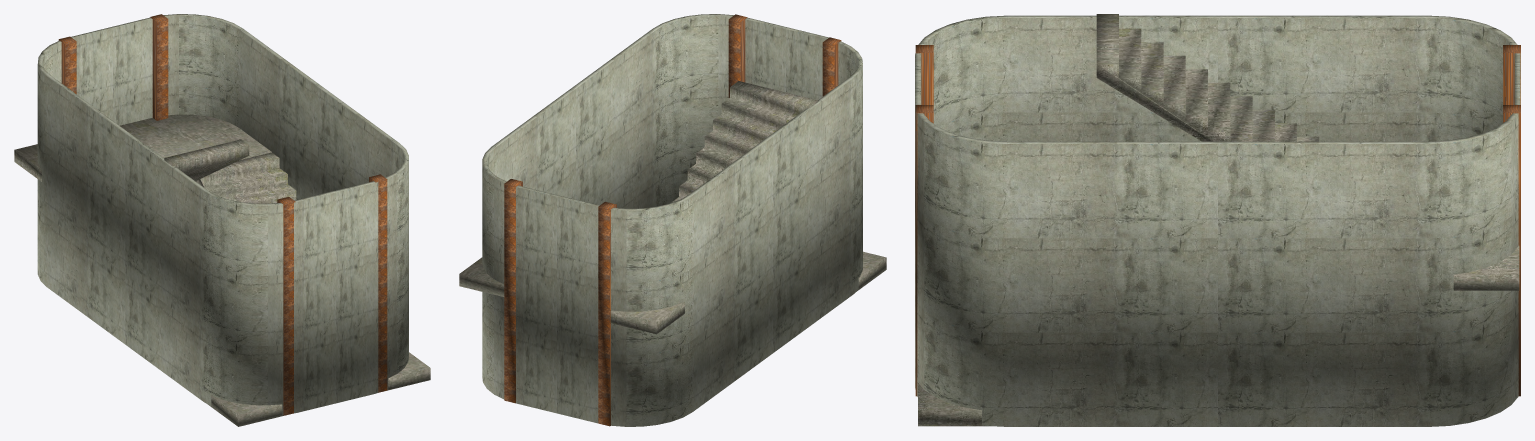
The model's file is mdl_stairsBlock.obj.
The picture shows the model from 3 angles, left to right: view 1: azimuth 30°, elevation 25°; view 2: azimuth 150°, elevation 25°; view 3: azimuth 270°, elevation 25°; orthographic projection. The views are drawn at different scales.
Visible parts, largest first — view 1: Rectangle001, Box001, StraightStair001, Box006, Box005, Box002, StraightStair002, Box004, Box003; view 2: Rectangle001, StraightStair002, Box003, Box004, Box001, Box005, Box006, Box002; view 3: Rectangle001, StraightStair002, Box001, Box002, Box005, Box004, Box006, Box003.
Boxes of the visible parts, x1,y1,x2,y2 form: Rectangle001: (37,14,408,415); Box001: (14,114,271,181); StraightStair001: (196,152,296,203); Box006: (277,197,295,415); Box005: (369,174,387,392); Box002: (208,352,430,426); StraightStair002: (164,139,249,181); Box004: (150,14,168,120); Box003: (58,36,76,93); Rectangle001: (482,14,862,426); StraightStair002: (671,81,817,202); Box003: (598,201,616,426); Box004: (504,179,522,403); Box001: (459,257,684,334); Box005: (728,14,747,97); Box006: (822,37,841,96); Box002: (856,251,886,291); Rectangle001: (915,15,1520,426); StraightStair002: (1096,14,1319,141); Box001: (1453,246,1519,290); Box002: (918,383,989,426); Box005: (915,105,933,396); Box004: (1503,105,1520,396); Box006: (915,45,933,104); Box003: (1503,45,1520,104).
Size of the model in its own units: 2.04 by 2.12 by 4.07.
